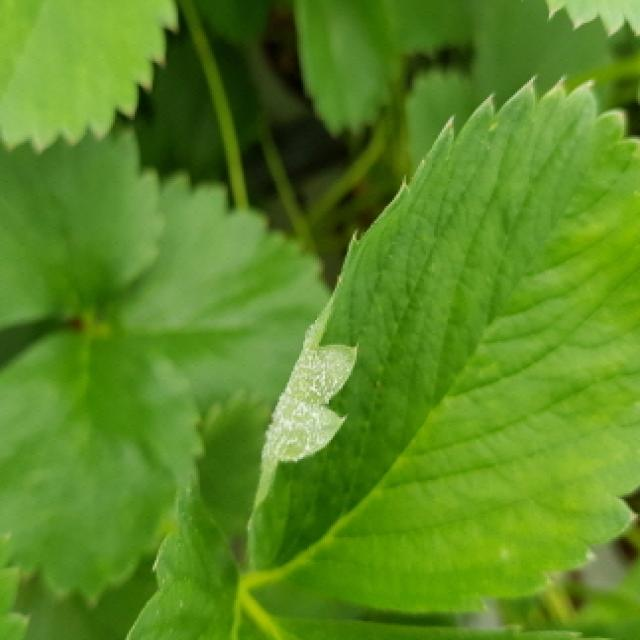Powdery Mildew Leaf: (247, 73, 640, 613)
